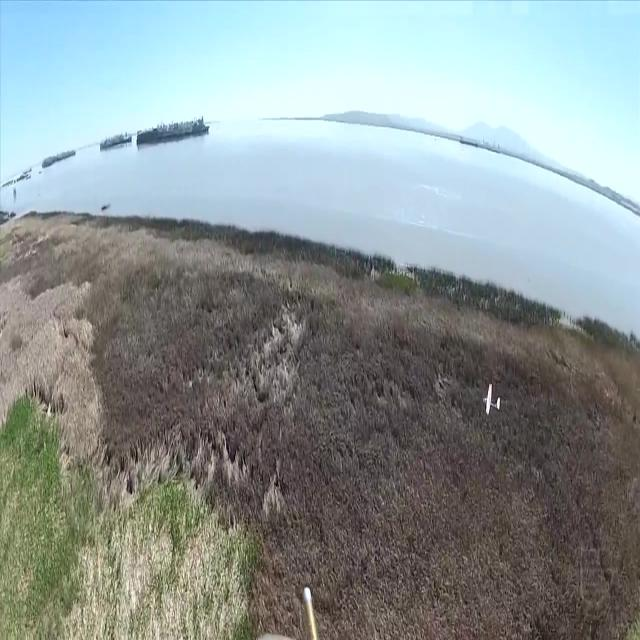iha: (480, 382, 504, 418)
